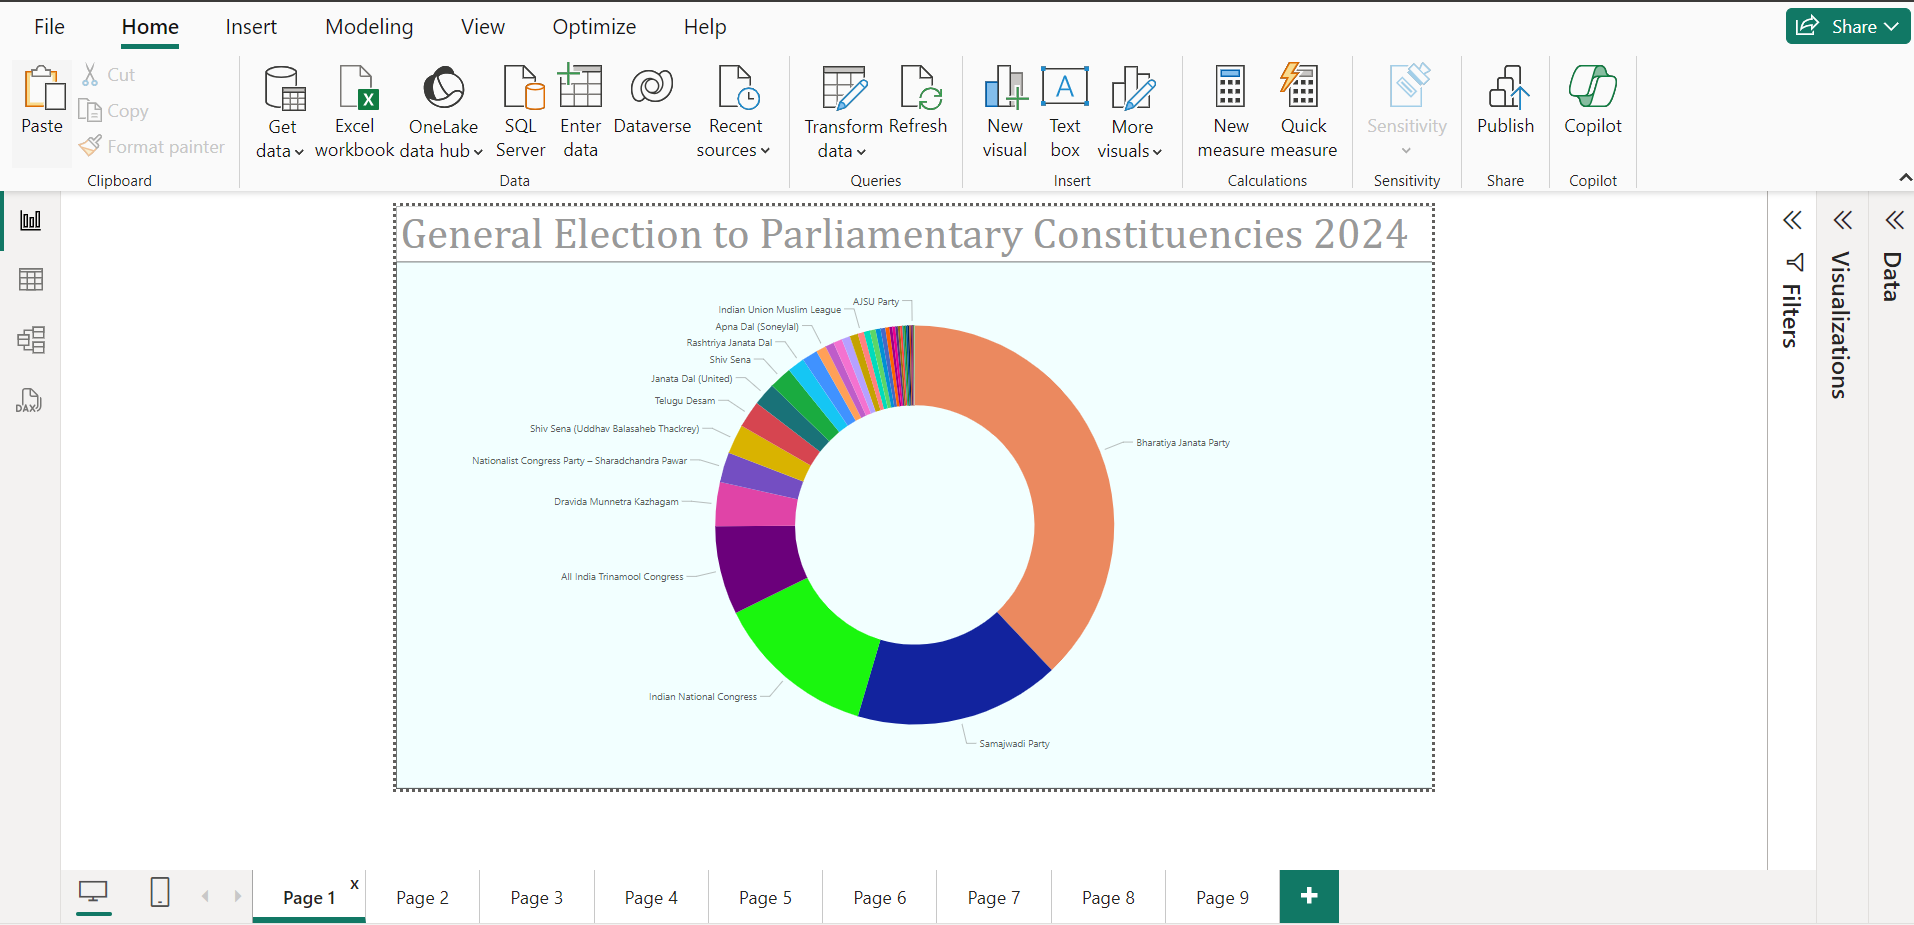

Layout of this report page (visuals, bound fields, positions):
{"tool":"powerbi","page":{"name":"Page 1","canvas":[1280,720],"ordinal":0},"visuals":[{"type":"donutChart","title":"General Election to Parliamentary Constituencies 2024","fields":{"Category":["Sheet1.Leading Party"],"Y":["Sheet1.Const. No."]},"box":[0,0,1280.8,719.2],"z":0}]}

Visuals, with their boxes on the page's 1280x720 design canvas (x1, y1, x2, y2). These are canvas units, not pixel positions in the 1914x925 screenshot, which may show the page scaled, cropped or inside an application window:
"General Election to Parliamentary Constituencies 2024" donutChart: <box>0,0,1281,719</box>
